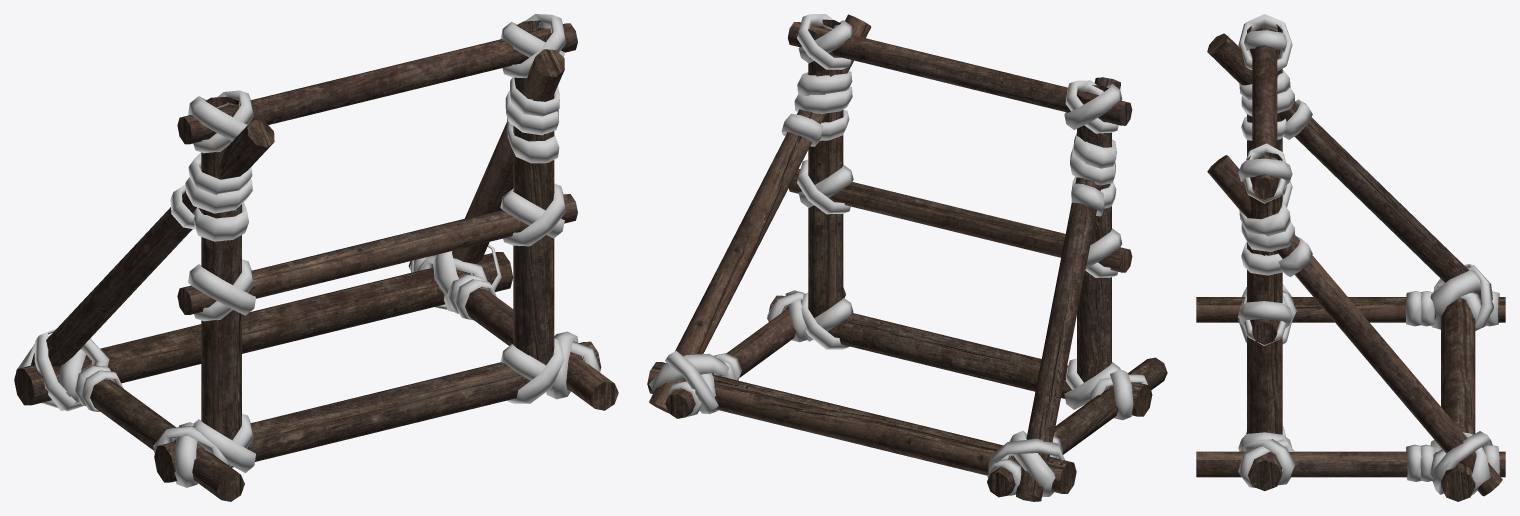
Rendered from P_Ladder02_Down.FBX.
3 renders of one model, left to right at view 1: azimuth 30°, elevation 25°; view 2: azimuth 150°, elevation 25°; view 3: azimuth 270°, elevation 25°, orthographic. The views are drawn at different scales.
Parts seen in each view (by area): view 1: P_Ladder02_Down; view 2: P_Ladder02_Down; view 3: P_Ladder02_Down.
Boxes of the visible parts, box(x1,y1,x2,y2) form: P_Ladder02_Down: box(14, 14, 618, 501); P_Ladder02_Down: box(647, 14, 1167, 501); P_Ladder02_Down: box(1196, 14, 1505, 501).
Bounding box in the file's own units: 124 × 94.43 × 81.51.
